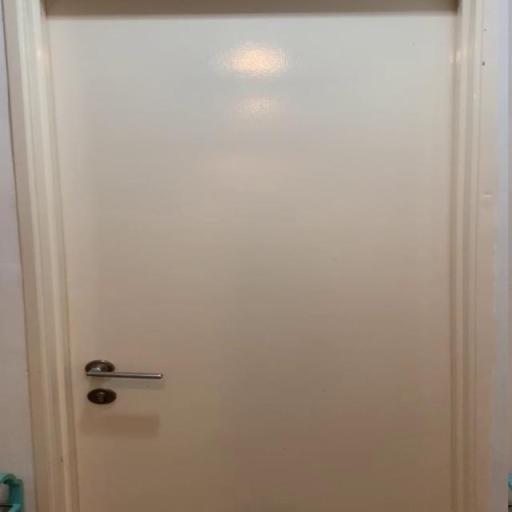door: (14, 0, 504, 512)
